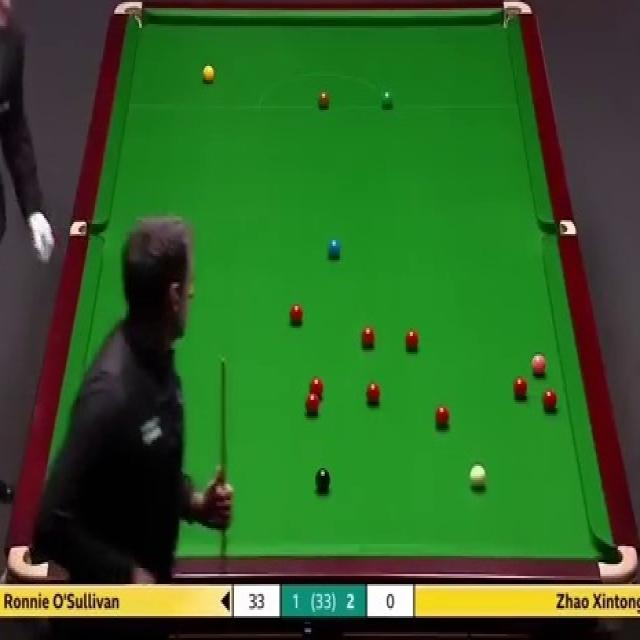black-ball: (316, 468, 330, 492)
blue-ball: (328, 236, 341, 262)
brown-ball: (317, 91, 331, 109)
green-ball: (380, 88, 395, 110)
pink-ball: (530, 354, 548, 374)
red-ball: (304, 392, 320, 417), (434, 405, 450, 429), (365, 382, 380, 406), (542, 388, 558, 410), (308, 376, 324, 398), (361, 326, 375, 350), (406, 328, 420, 352), (512, 376, 528, 397), (289, 302, 302, 325)
white-ball: (469, 463, 487, 490)
yellow-ball: (203, 66, 215, 85)
